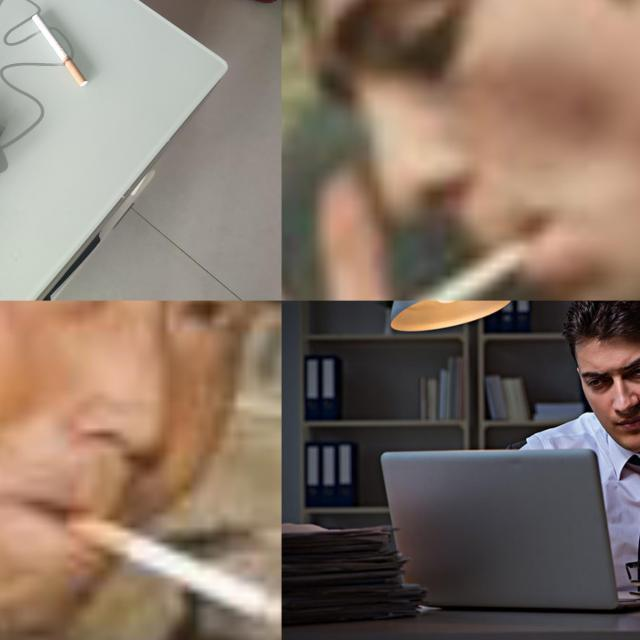smoking: (65, 510, 281, 627), (318, 216, 571, 300), (32, 12, 90, 88)
